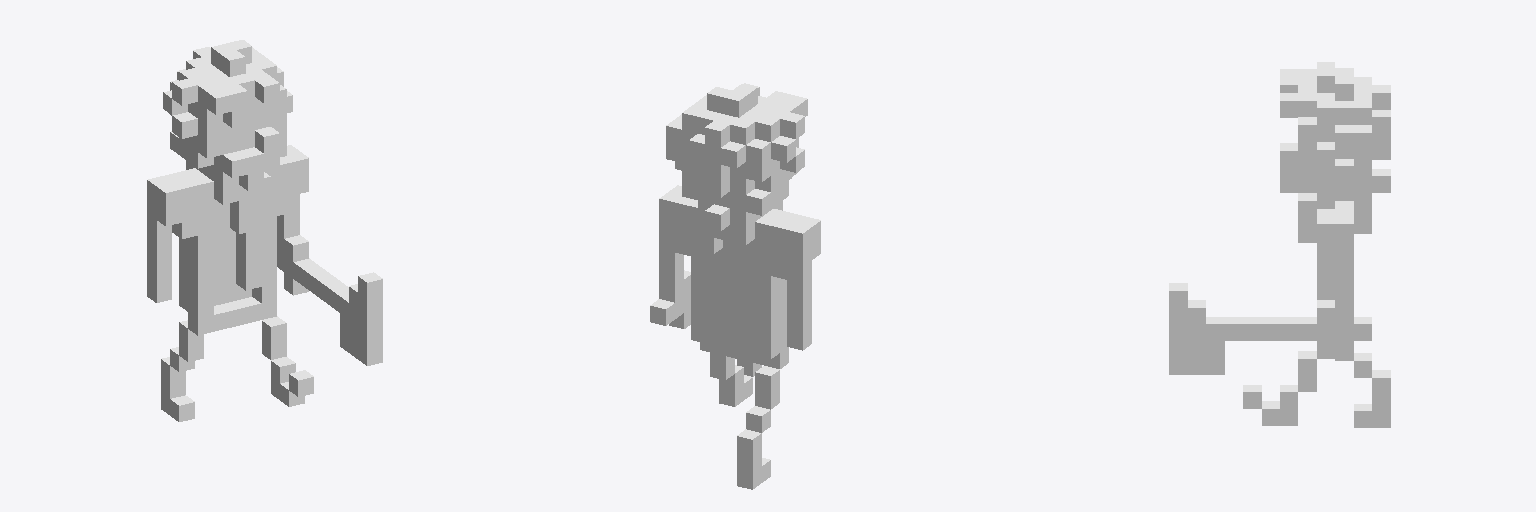
File: SwingingAxeManChar-1.obj
3 renders of one model, left to right at view 1: azimuth 30°, elevation 25°; view 2: azimuth 150°, elevation 25°; view 3: azimuth 270°, elevation 25°, orthographic.
Parts seen in each view (by area): view 1: SwingingAxeManChar-1; view 2: SwingingAxeManChar-1; view 3: SwingingAxeManChar-1.
Part boxes in pixels (bbox=[...]): SwingingAxeManChar-1: bbox=[147, 40, 382, 421]; SwingingAxeManChar-1: bbox=[650, 83, 820, 489]; SwingingAxeManChar-1: bbox=[1169, 62, 1390, 427].
Size of the model in its own units: 9 by 22 by 12.